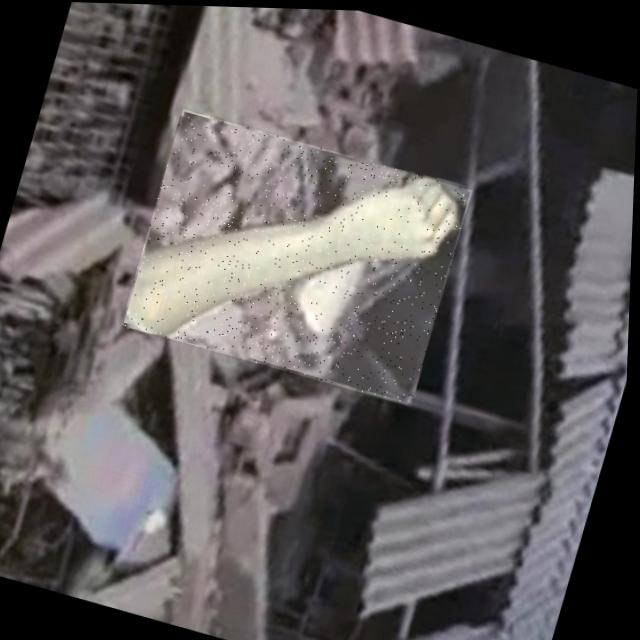Person in Rubble: (120, 106, 475, 404)
